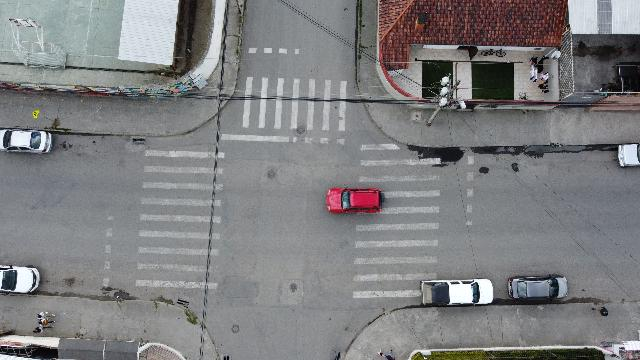Vehiculo: (421, 278, 494, 306), (508, 274, 568, 300), (326, 188, 385, 212), (0, 128, 52, 154), (0, 264, 40, 294)
